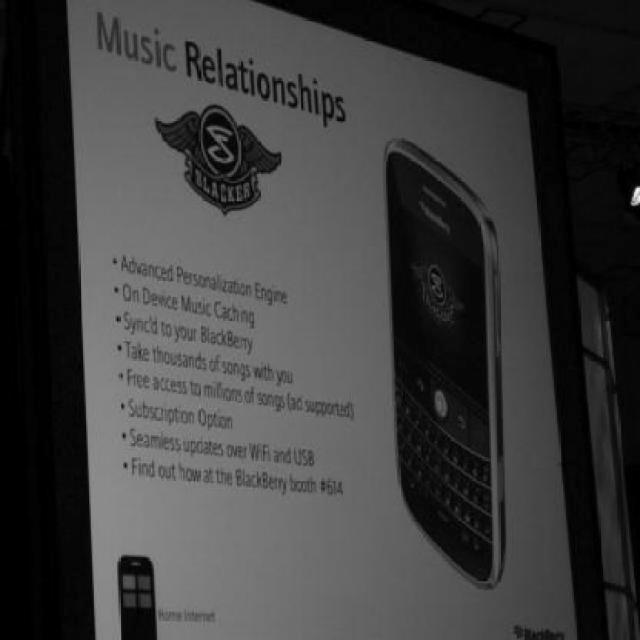fake: (390, 129, 518, 597)
